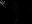person: (1, 1, 9, 9)
